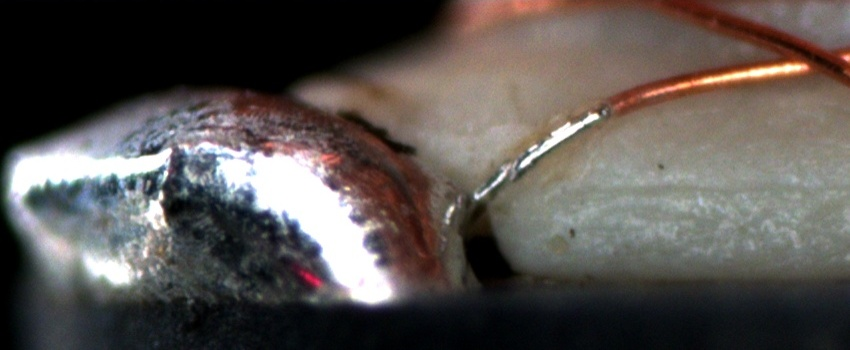CL: (756, 31, 843, 83)
DL: (589, 155, 850, 213)
TS: (471, 102, 612, 212)
